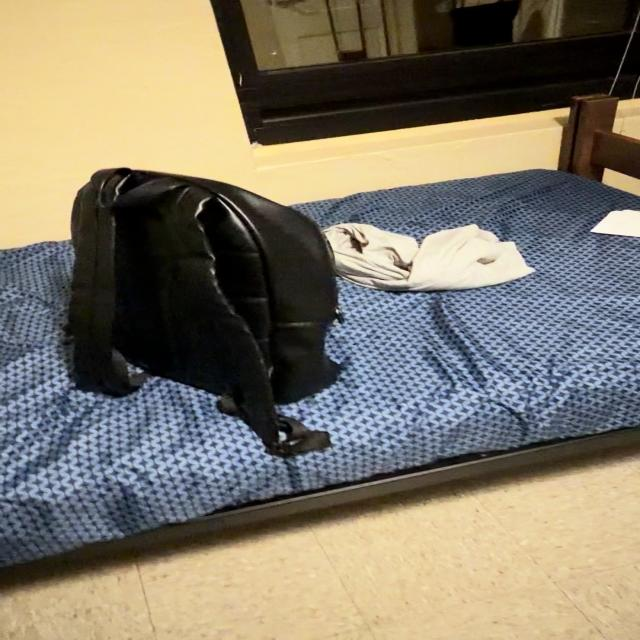backpack: (68, 168, 338, 455)
